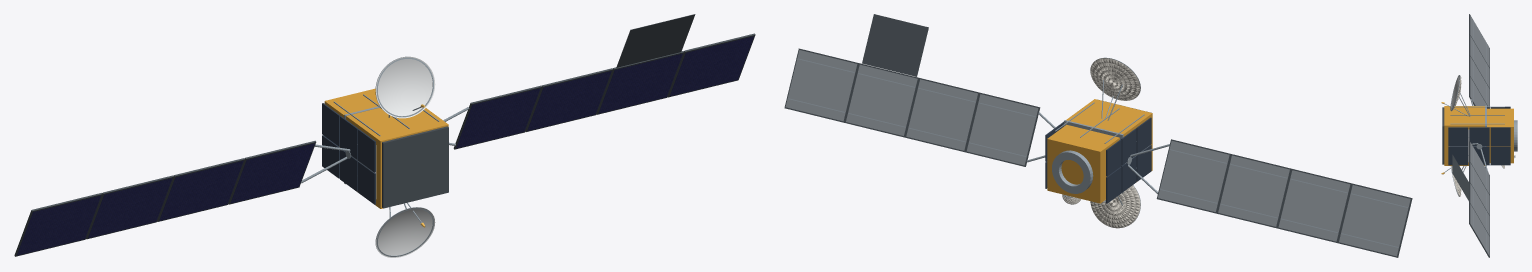
File: ses-11.glb
3 renders of one model, left to right at view 1: azimuth 30°, elevation 25°; view 2: azimuth 150°, elevation 25°; view 3: azimuth 270°, elevation 25°, orthographic. The views are drawn at different scales.
Parts seen in each view (by area): view 1: Solar cell panel (×8), Earth-facing deck, Solar panel frame (×8), Radiator bay (×6), Reflector 2 face, Payload module, Solar wing trim flap, Reflector 1 face, Service module; view 2: Rear array substrate (×8), Solar panel frame (×8), Service module, Solar wing trim flap, Radiator bay (×6), Payload module, Reflector 2 insulated back, Reflector 1 insulated back, Launch adapter ring; view 3: Rear array substrate (×8), Radiator bay (×6), Payload module, Service module, Solar panel frame (×7), Solar wing trim flap, Blanket closeout seam (×2), Earth-facing deck, Reflector 2 face, Launch adapter ring, Reflector 1 insulated back, Reflector 2 edge (+1 smaller).
Boxes of the visible parts, x1,y1,x2,y2 form: Solar cell panel (×8): (17,36,754,255); Earth-facing deck: (382,126,448,208); Solar panel frame (×8): (14,33,755,256); Radiator bay (×6): (322,103,375,204); Reflector 2 face: (376,56,435,118); Payload module: (346,108,448,208); Solar wing trim flap: (616,14,695,67); Reflector 1 face: (376,207,435,257); Service module: (324,88,379,146); Rear array substrate (×8): (785,50,1410,256); Solar panel frame (×8): (784,48,1412,257); Service module: (1047,124,1119,203); Solar wing trim flap: (862,14,928,76); Radiator bay (×6): (1106,117,1151,203); Payload module: (1066,99,1152,170); Reflector 2 insulated back: (1090,58,1140,100); Reflector 1 insulated back: (1090,185,1140,228); Launch adapter ring: (1052,150,1093,193); Rear array substrate (×8): (1470,15,1489,255); Radiator bay (×6): (1448,127,1510,165); Payload module: (1444,106,1484,165); Service module: (1487,108,1513,163); Solar panel frame (×7): (1469,14,1489,257); Solar wing trim flap: (1452,154,1469,201); Blanket closeout seam (×2): (1450,106,1504,124); Earth-facing deck: (1442,107,1444,164); Reflector 2 face: (1450,75,1459,110); Launch adapter ring: (1514,120,1517,151); Reflector 1 insulated back: (1451,166,1461,196); Reflector 2 edge: (1450,75,1460,111).
Bounding box in the file's own units: 34.97 × 9.21 × 5.38.
10 materials, 1 textured.
